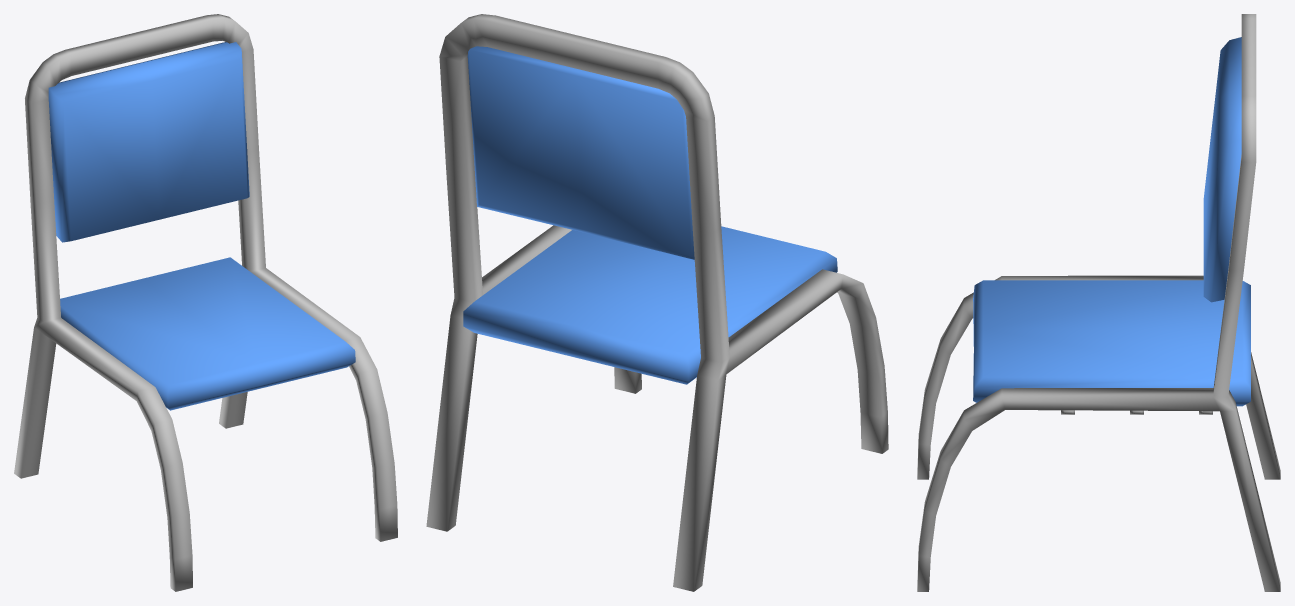
File: GAMEJAMHERO - Prop(Office Chair).fbx
The picture shows the model from 3 angles, left to right: view 1: azimuth 30°, elevation 25°; view 2: azimuth 150°, elevation 25°; view 3: azimuth 270°, elevation 25°; orthographic projection. The views are drawn at different scales.
Parts seen in each view (by area): view 1: Office Chair; view 2: Office Chair; view 3: Office Chair.
Boxes of the visible parts, x1,y1,x2,y2 form: Office Chair: (14, 14, 397, 591); Office Chair: (426, 14, 888, 591); Office Chair: (917, 14, 1280, 591).
Size of the model in its own units: 91 by 165 by 115.
1 material, 1 textured.
